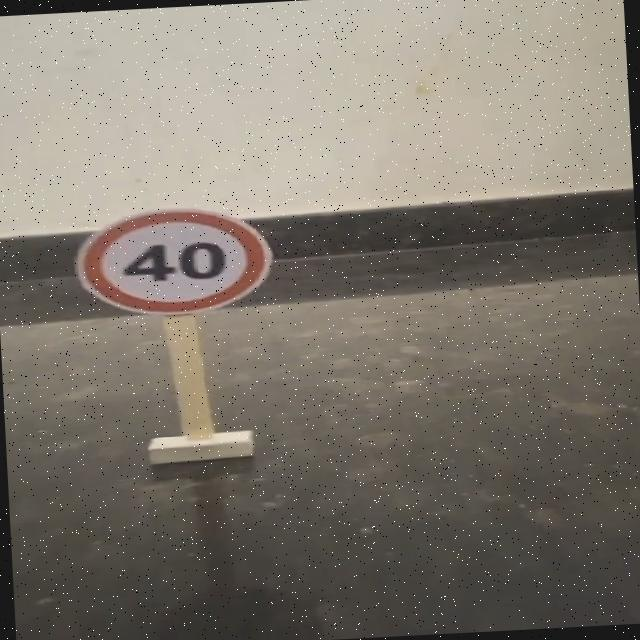Speed40: (64, 199, 281, 323)
